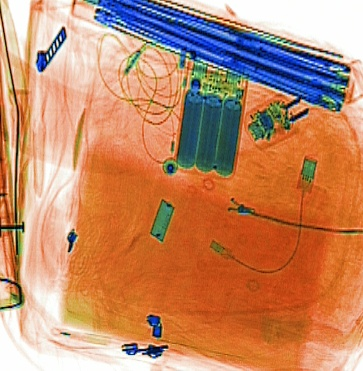powerbank: (171, 53, 249, 182)
